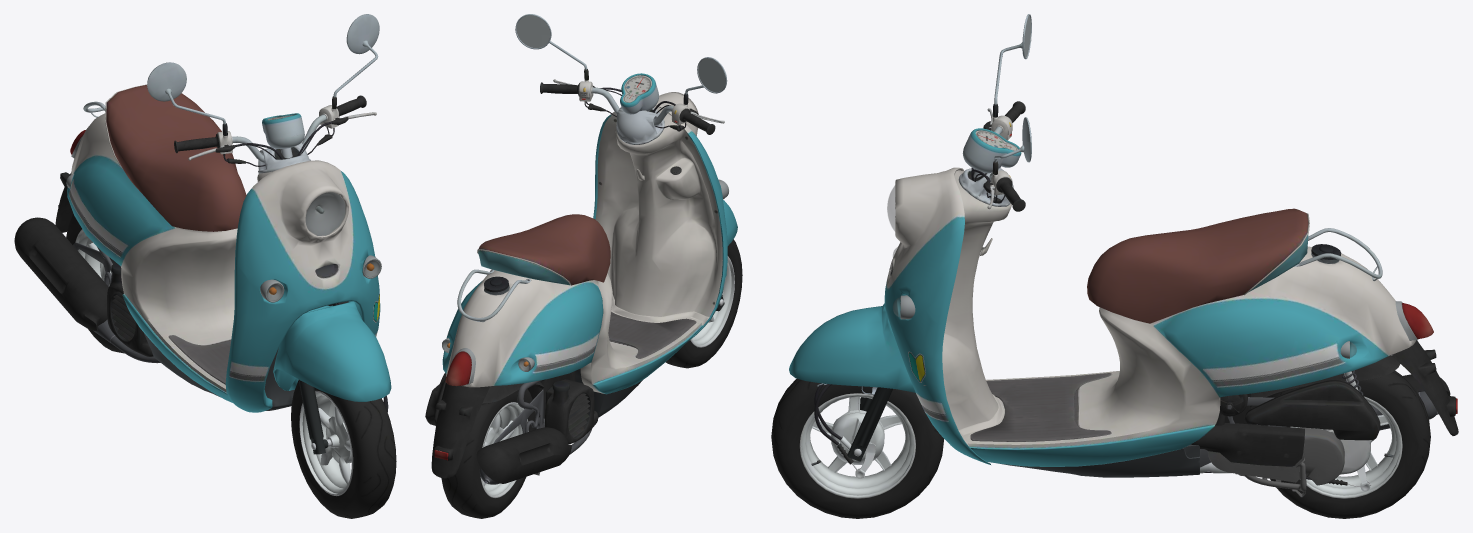
Rendered from scooter.glb.
3 views of the same model, side by side, from view 1: azimuth 30°, elevation 25°; view 2: azimuth 150°, elevation 25°; view 3: azimuth 270°, elevation 25° (orthographic). The views are drawn at different scales.
Size of the model in its own units: 0.6793 by 1.16 by 1.62.
6 materials, 6 textured.
